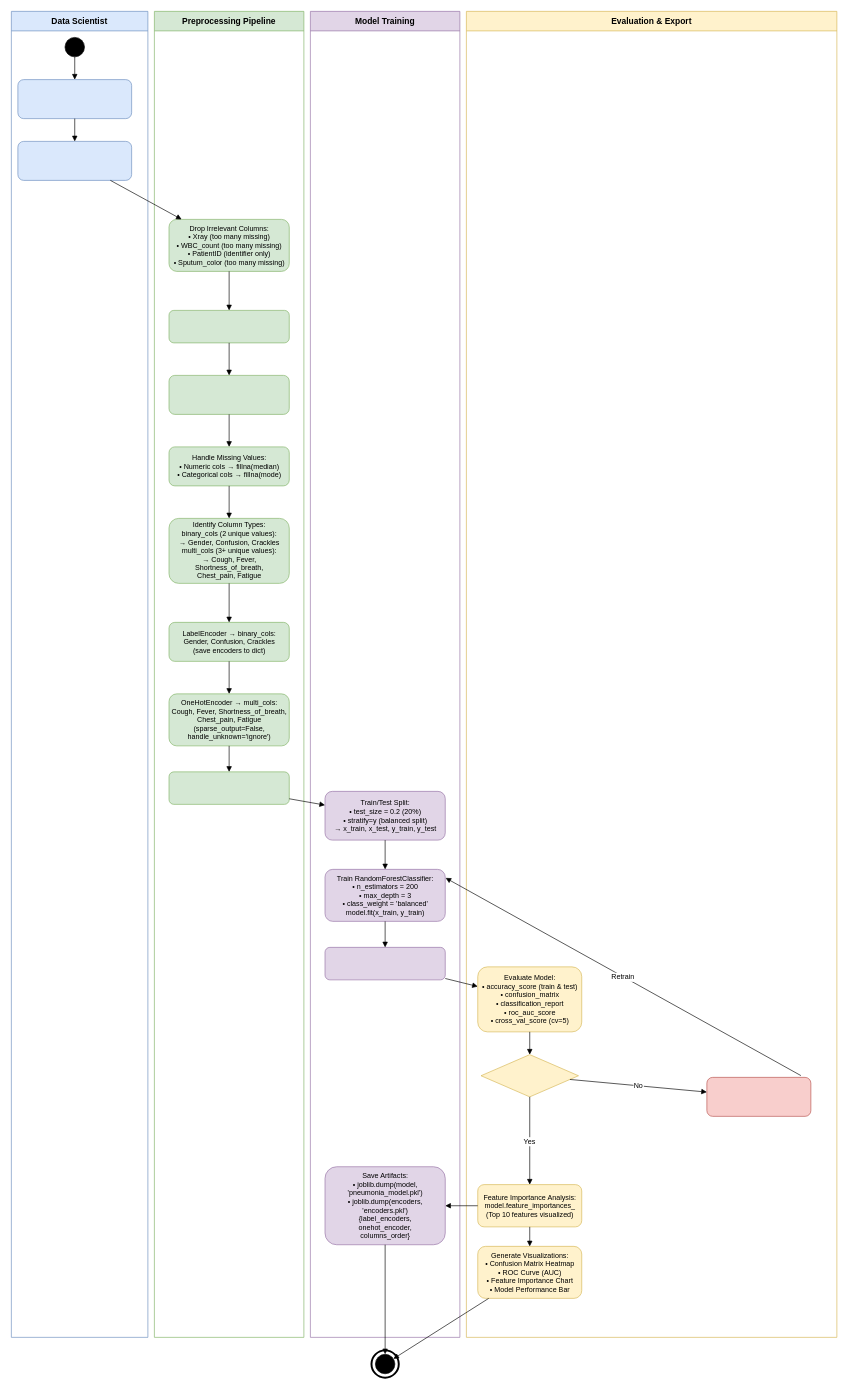
Image size: 848x1390. Some labels were removed from this diagram. Here are the shapes that lost their labels. From the top down, the centre of each, then its label:
At point (74, 99): "Load Dataset pneumonia_dataset.csv (710 rows, 16 columns)".
At point (74, 160): "Explore Data: data.info() value_counts(Xray, WBC_count)".
At point (228, 326): "Replace '-' → NaN (data.replace('-', pd.NA))".
At point (228, 394): "Convert to Numeric: Oxygen_saturation, Age, Temperature pd.to_numeric()".
At point (228, 787): "Encode Target (Diagnosis): LabelEncoder → Yes/No to 1/0".
At point (384, 963): "model.predict(x_test) model.predict(x_train)".
At point (529, 1075): "Accuracy Acceptable?".
At point (758, 1096): "Tune Hyperparameters (adjust n_estimators, max_depth, etc.)".
